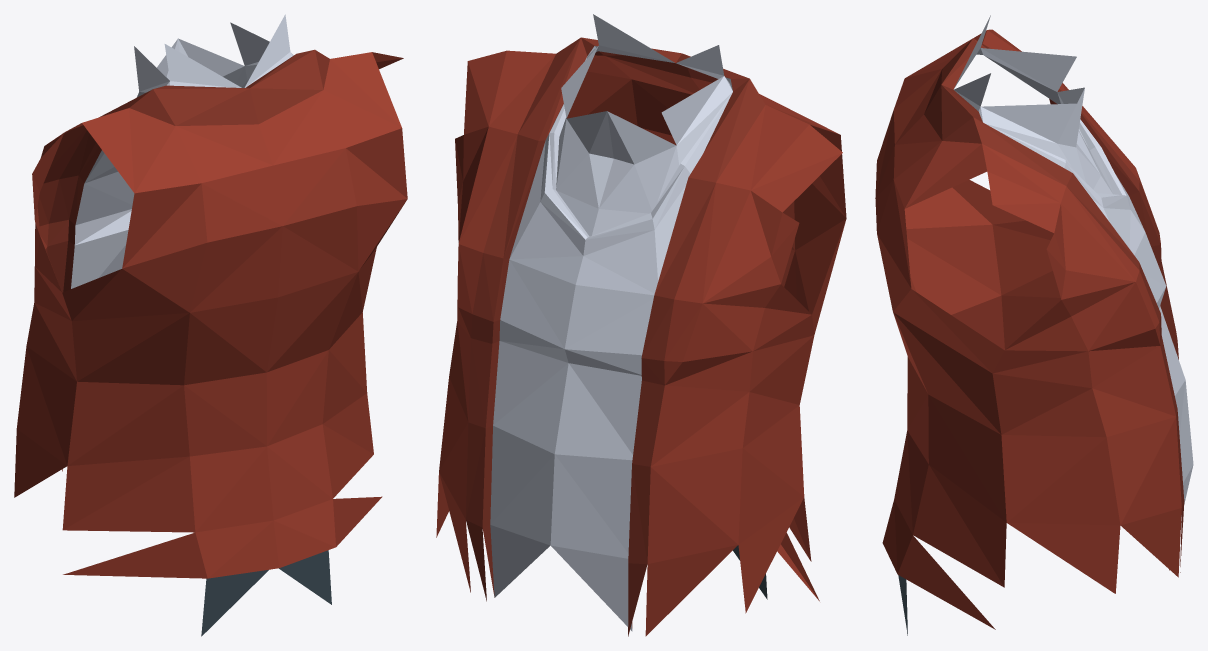
File: Torso.obj
The picture shows the model from 3 angles, left to right: view 1: azimuth 30°, elevation 25°; view 2: azimuth 150°, elevation 25°; view 3: azimuth 270°, elevation 25°; orthographic projection. The views are drawn at different scales.
Size of the model in its own units: 0.4988 by 0.7439 by 0.3818.
Materials: 1 (1 with a texture image).
